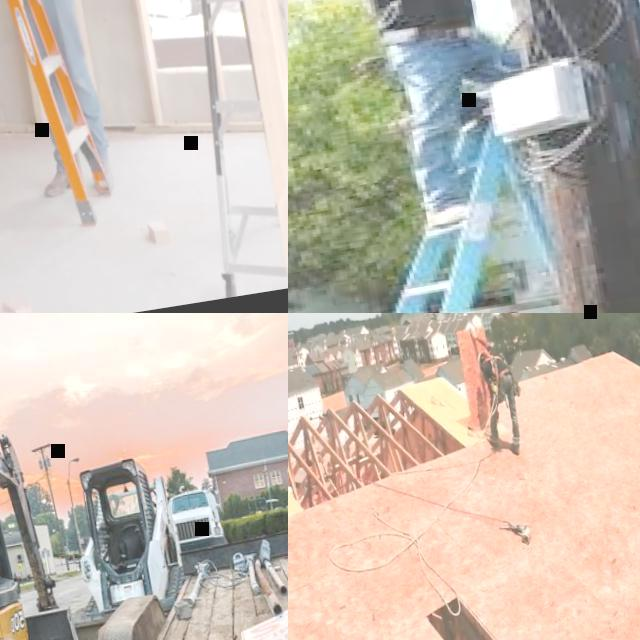helmet: (476, 353, 485, 372)
machinery: (0, 313, 113, 640), (28, 452, 196, 640), (164, 485, 227, 555)
no_vest: (365, 0, 474, 35), (484, 354, 509, 383)
person: (343, 0, 574, 234), (0, 0, 117, 205), (472, 348, 524, 459)
